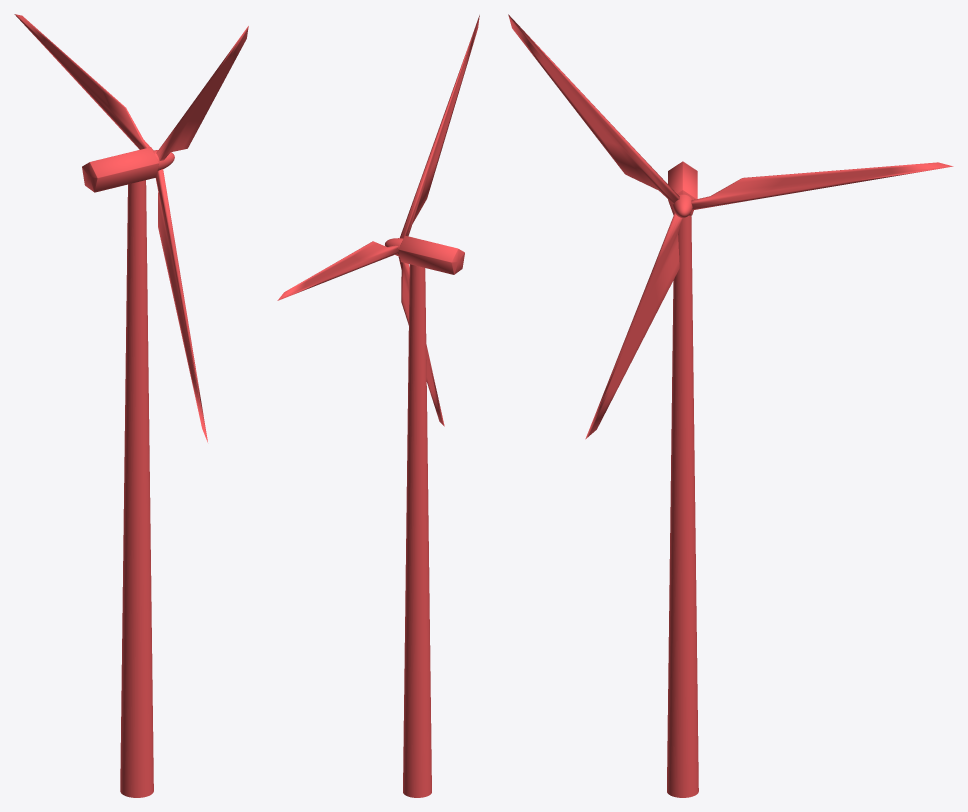
File: turbine.glb
3 views of the same model, side by side, from view 1: azimuth 30°, elevation 25°; view 2: azimuth 150°, elevation 25°; view 3: azimuth 270°, elevation 25° (orthographic). The views are drawn at different scales.
Parts seen in each view (by area): view 1: Cylinder.001; view 2: Cylinder.001; view 3: Cylinder.001.
Boxes of the visible parts, <box> form: Cylinder.001: <box>14,14,248,797</box>; Cylinder.001: <box>277,15,479,797</box>; Cylinder.001: <box>508,14,953,797</box>.
Bounding box in the file's own units: 1 × 9.38 × 4.82.
